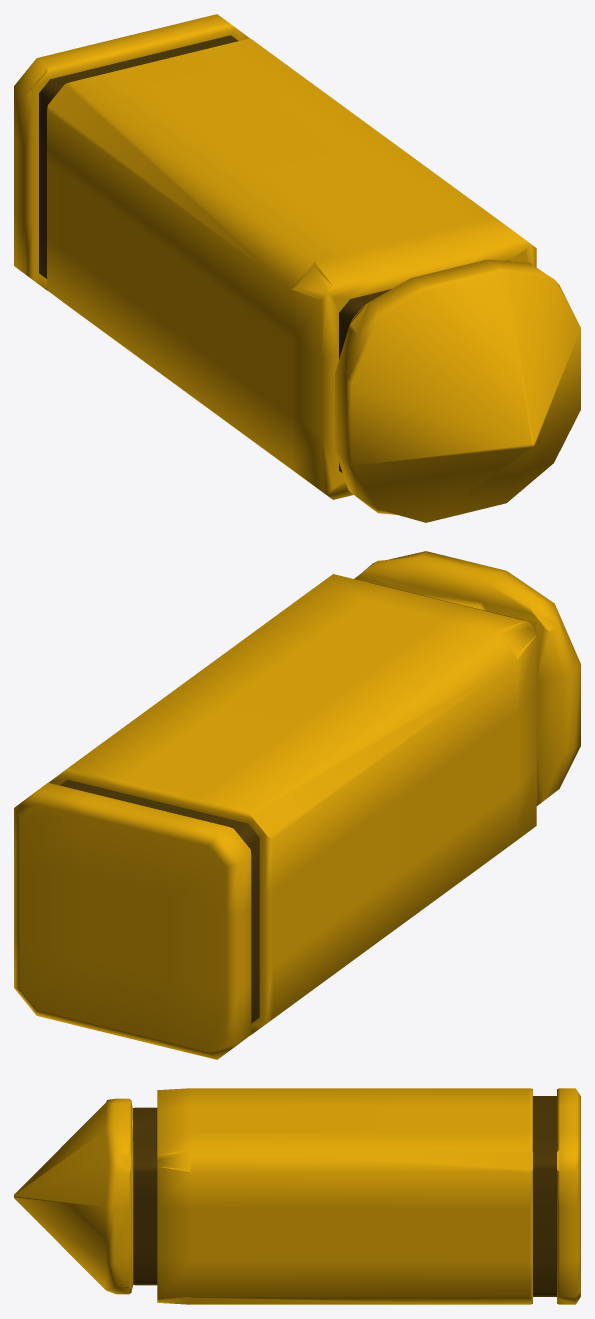
The model's file is Bullet3.fbx.
The picture shows the model from 3 angles, top to bottom: view 1: azimuth 30°, elevation 25°; view 2: azimuth 150°, elevation 25°; view 3: azimuth 270°, elevation 25°; orthographic projection. The views are drawn at different scales.
Parts seen in each view (by area): view 1: pCube1; view 2: pCube1; view 3: pCube1.
Boxes of the visible parts, box(x1,y1,x2,y2) form: pCube1: box(14, 14, 580, 522); pCube1: box(14, 551, 580, 1059); pCube1: box(14, 1088, 580, 1304).
Size of the model in its own units: 2.88 by 8.92 by 2.79.
